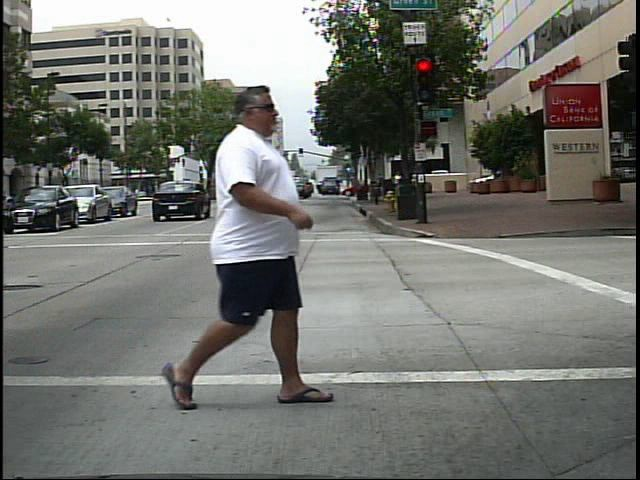person: (167, 77, 327, 413)
